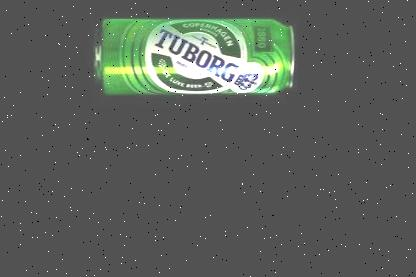Can: (92, 17, 296, 96)
